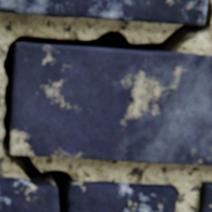brick: (10, 44, 211, 166), (0, 0, 206, 25), (198, 182, 211, 211)
broken_brick: (67, 181, 178, 211), (0, 177, 58, 211)
crack: (2, 0, 211, 211)
